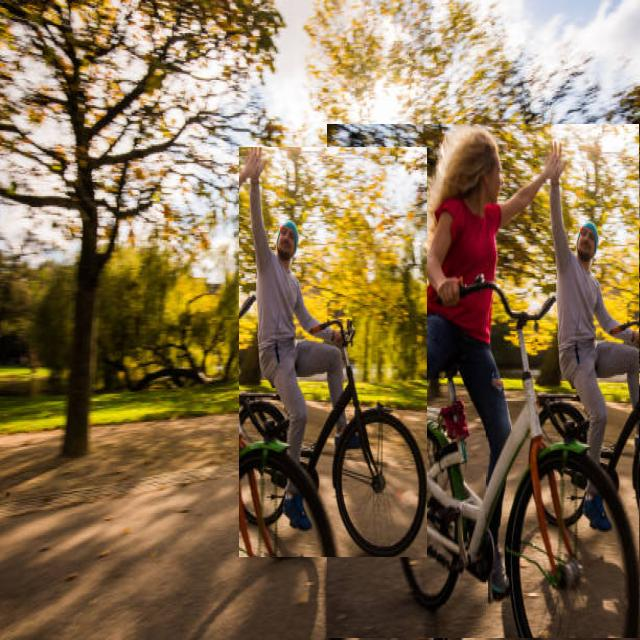bicycle: (328, 124, 639, 638), (240, 148, 427, 557)
